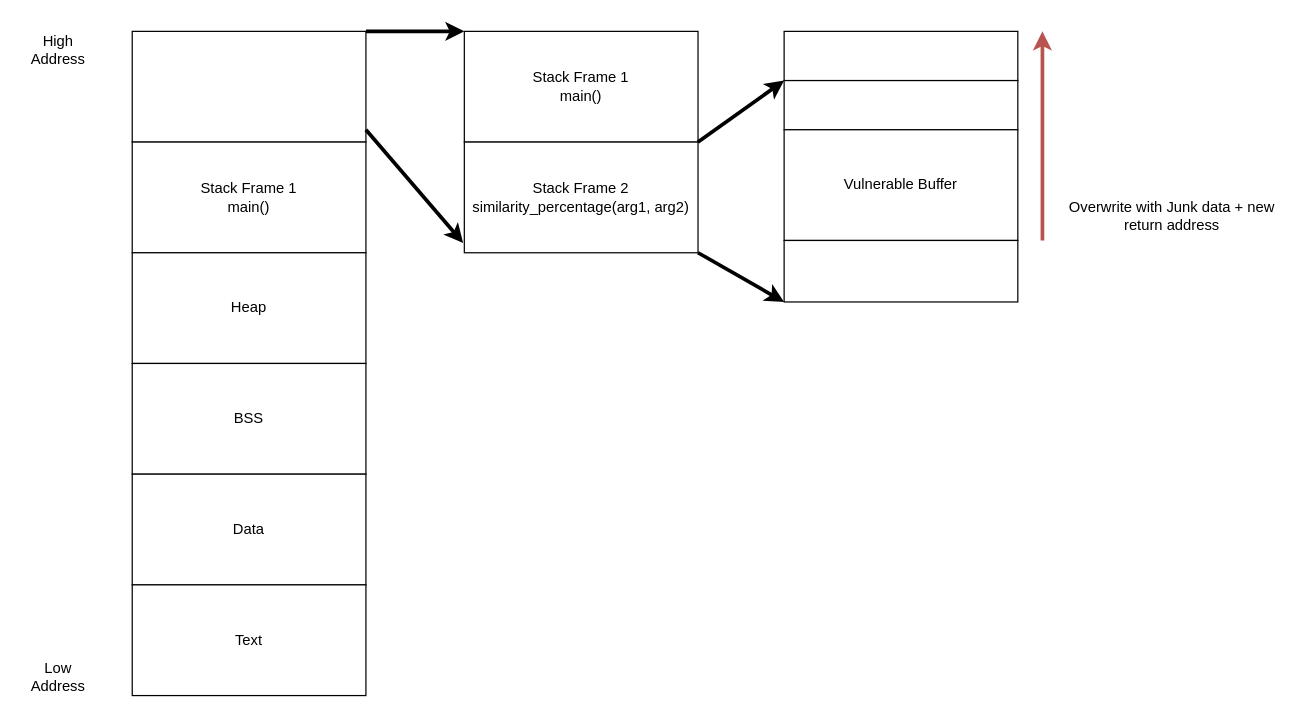
Image size: 1309x717. Some labels were removed from this diagram. Here are the shapes that lost their labels. From the top down, the centre of each, then its label:
point (900, 55): return address
point (248, 86): Stack
point (900, 104): base pointer (ebp)
point (900, 270): Other Local Variables
